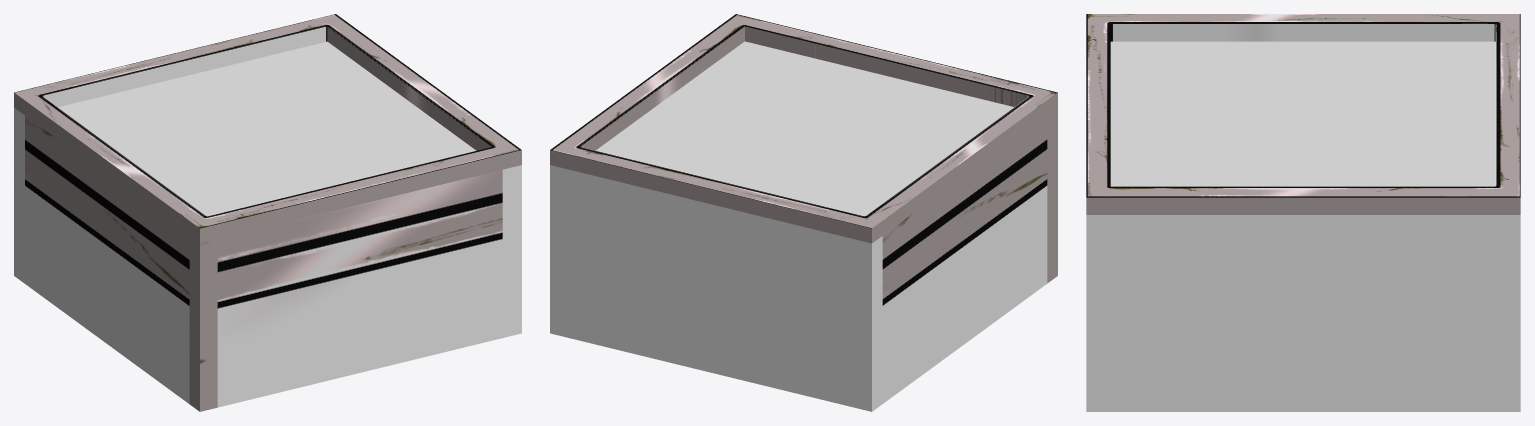
The model's file is light.fbx.
3 views of the same model, side by side, from view 1: azimuth 30°, elevation 25°; view 2: azimuth 150°, elevation 25°; view 3: azimuth 270°, elevation 25° (orthographic). The views are drawn at different scales.
Parts seen in each view (by area): view 1: Cube; view 2: Cube; view 3: Cube.
Boxes of the visible parts, <box> form: Cube: <box>14,14,521,411</box>; Cube: <box>550,14,1057,411</box>; Cube: <box>1086,14,1520,411</box>.
Size of the model in its own units: 200 by 109 by 200.
Materials: 2 (1 with a texture image).
